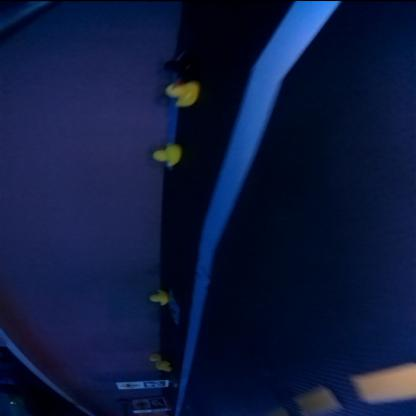Duckie: (166, 81, 200, 107), (154, 142, 180, 165), (148, 288, 168, 304), (155, 361, 167, 371), (149, 353, 161, 361)
Intersection sign: (132, 399, 146, 409), (119, 382, 140, 388)
QR code: (168, 294, 180, 324), (148, 398, 166, 407), (142, 381, 166, 387)
